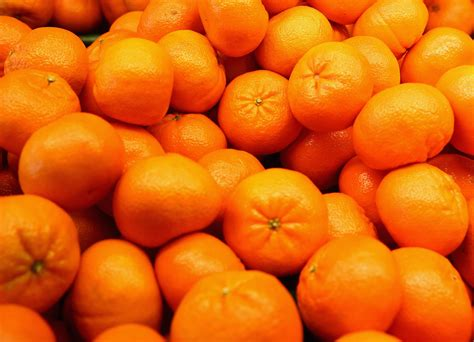orange: (220, 169, 331, 274), (110, 151, 224, 249), (298, 233, 405, 335), (16, 108, 124, 209), (164, 267, 304, 342), (372, 161, 471, 261), (1, 193, 81, 316), (352, 81, 457, 172), (288, 41, 374, 137), (87, 36, 178, 126), (218, 67, 304, 158)
